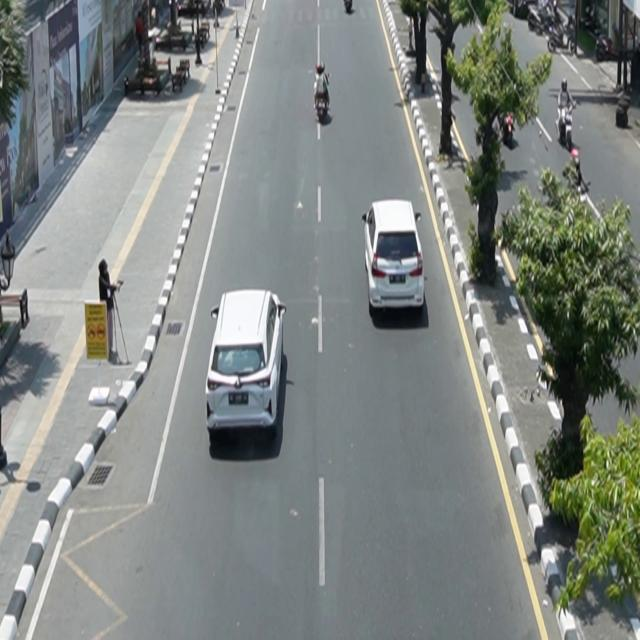car: (206, 289, 288, 440), (362, 199, 426, 317)
